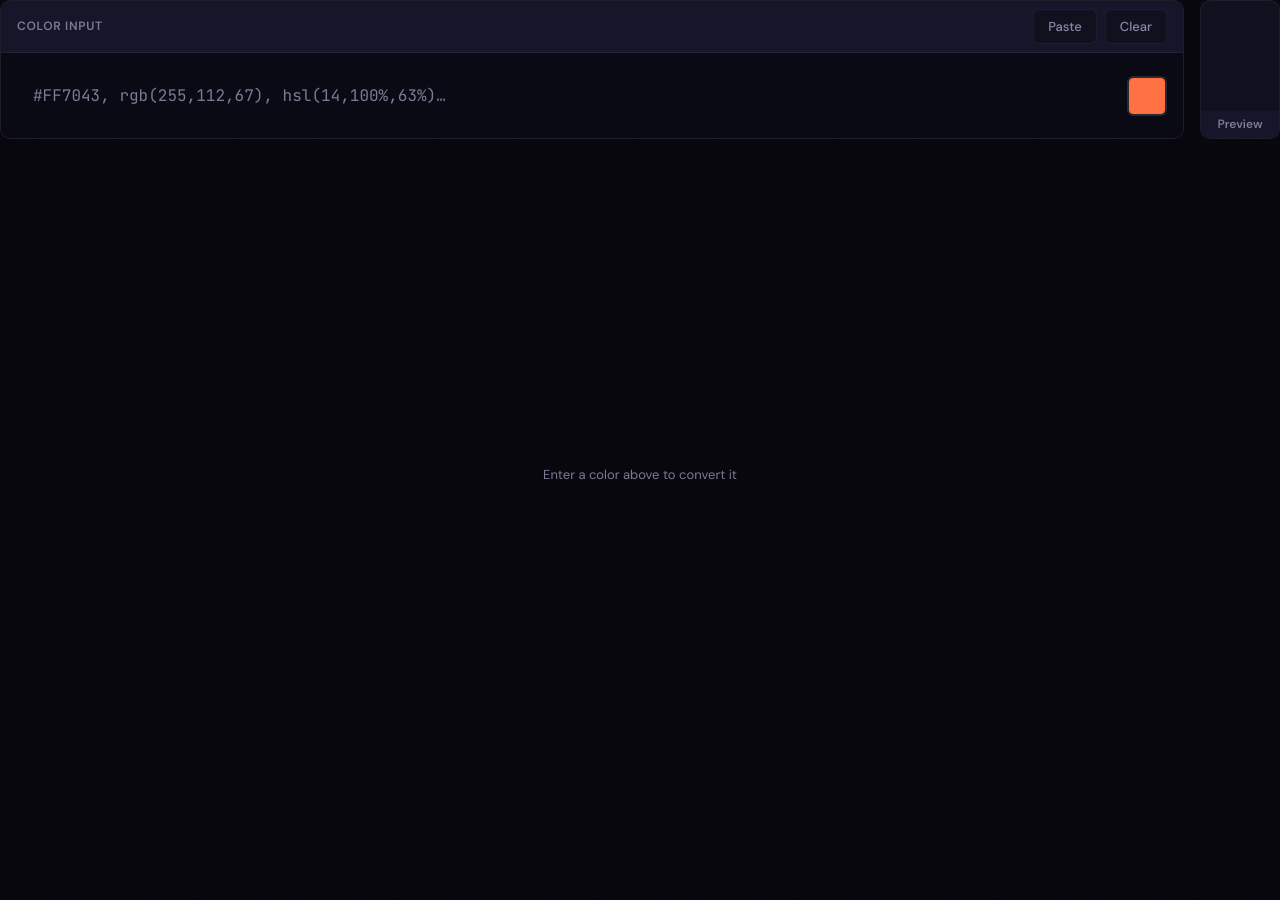
ColorConverter › converts hex to all formats
The image size is (1280, 900).
Type "#ff0000" into the field named "color value input" at [564, 96], box [17,69,1111,122]
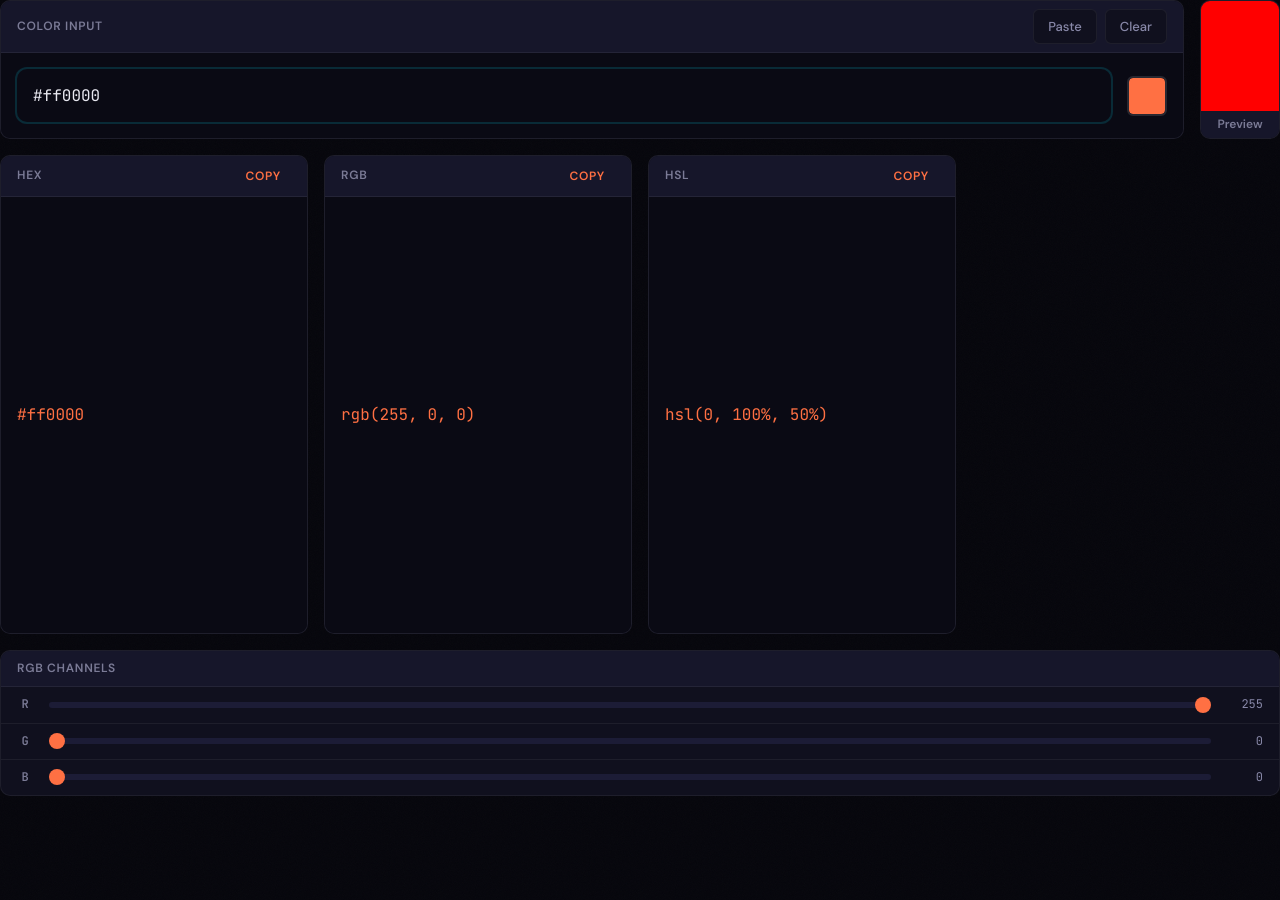
Now the text "#ff0000" is shown, box [1,197,307,633]
Now the text "rgb(255, 0, 0)" is shown, box [325,197,631,633]
Now the text "hsl(0, 100%, 50%)" is shown, box [649,197,955,633]
